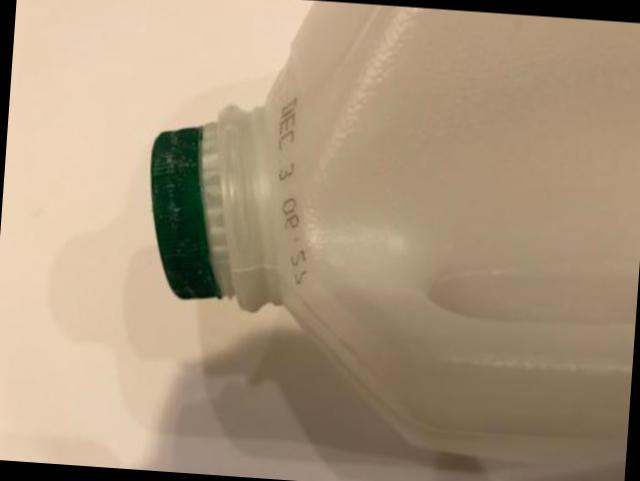plastic: (155, 0, 640, 459)
